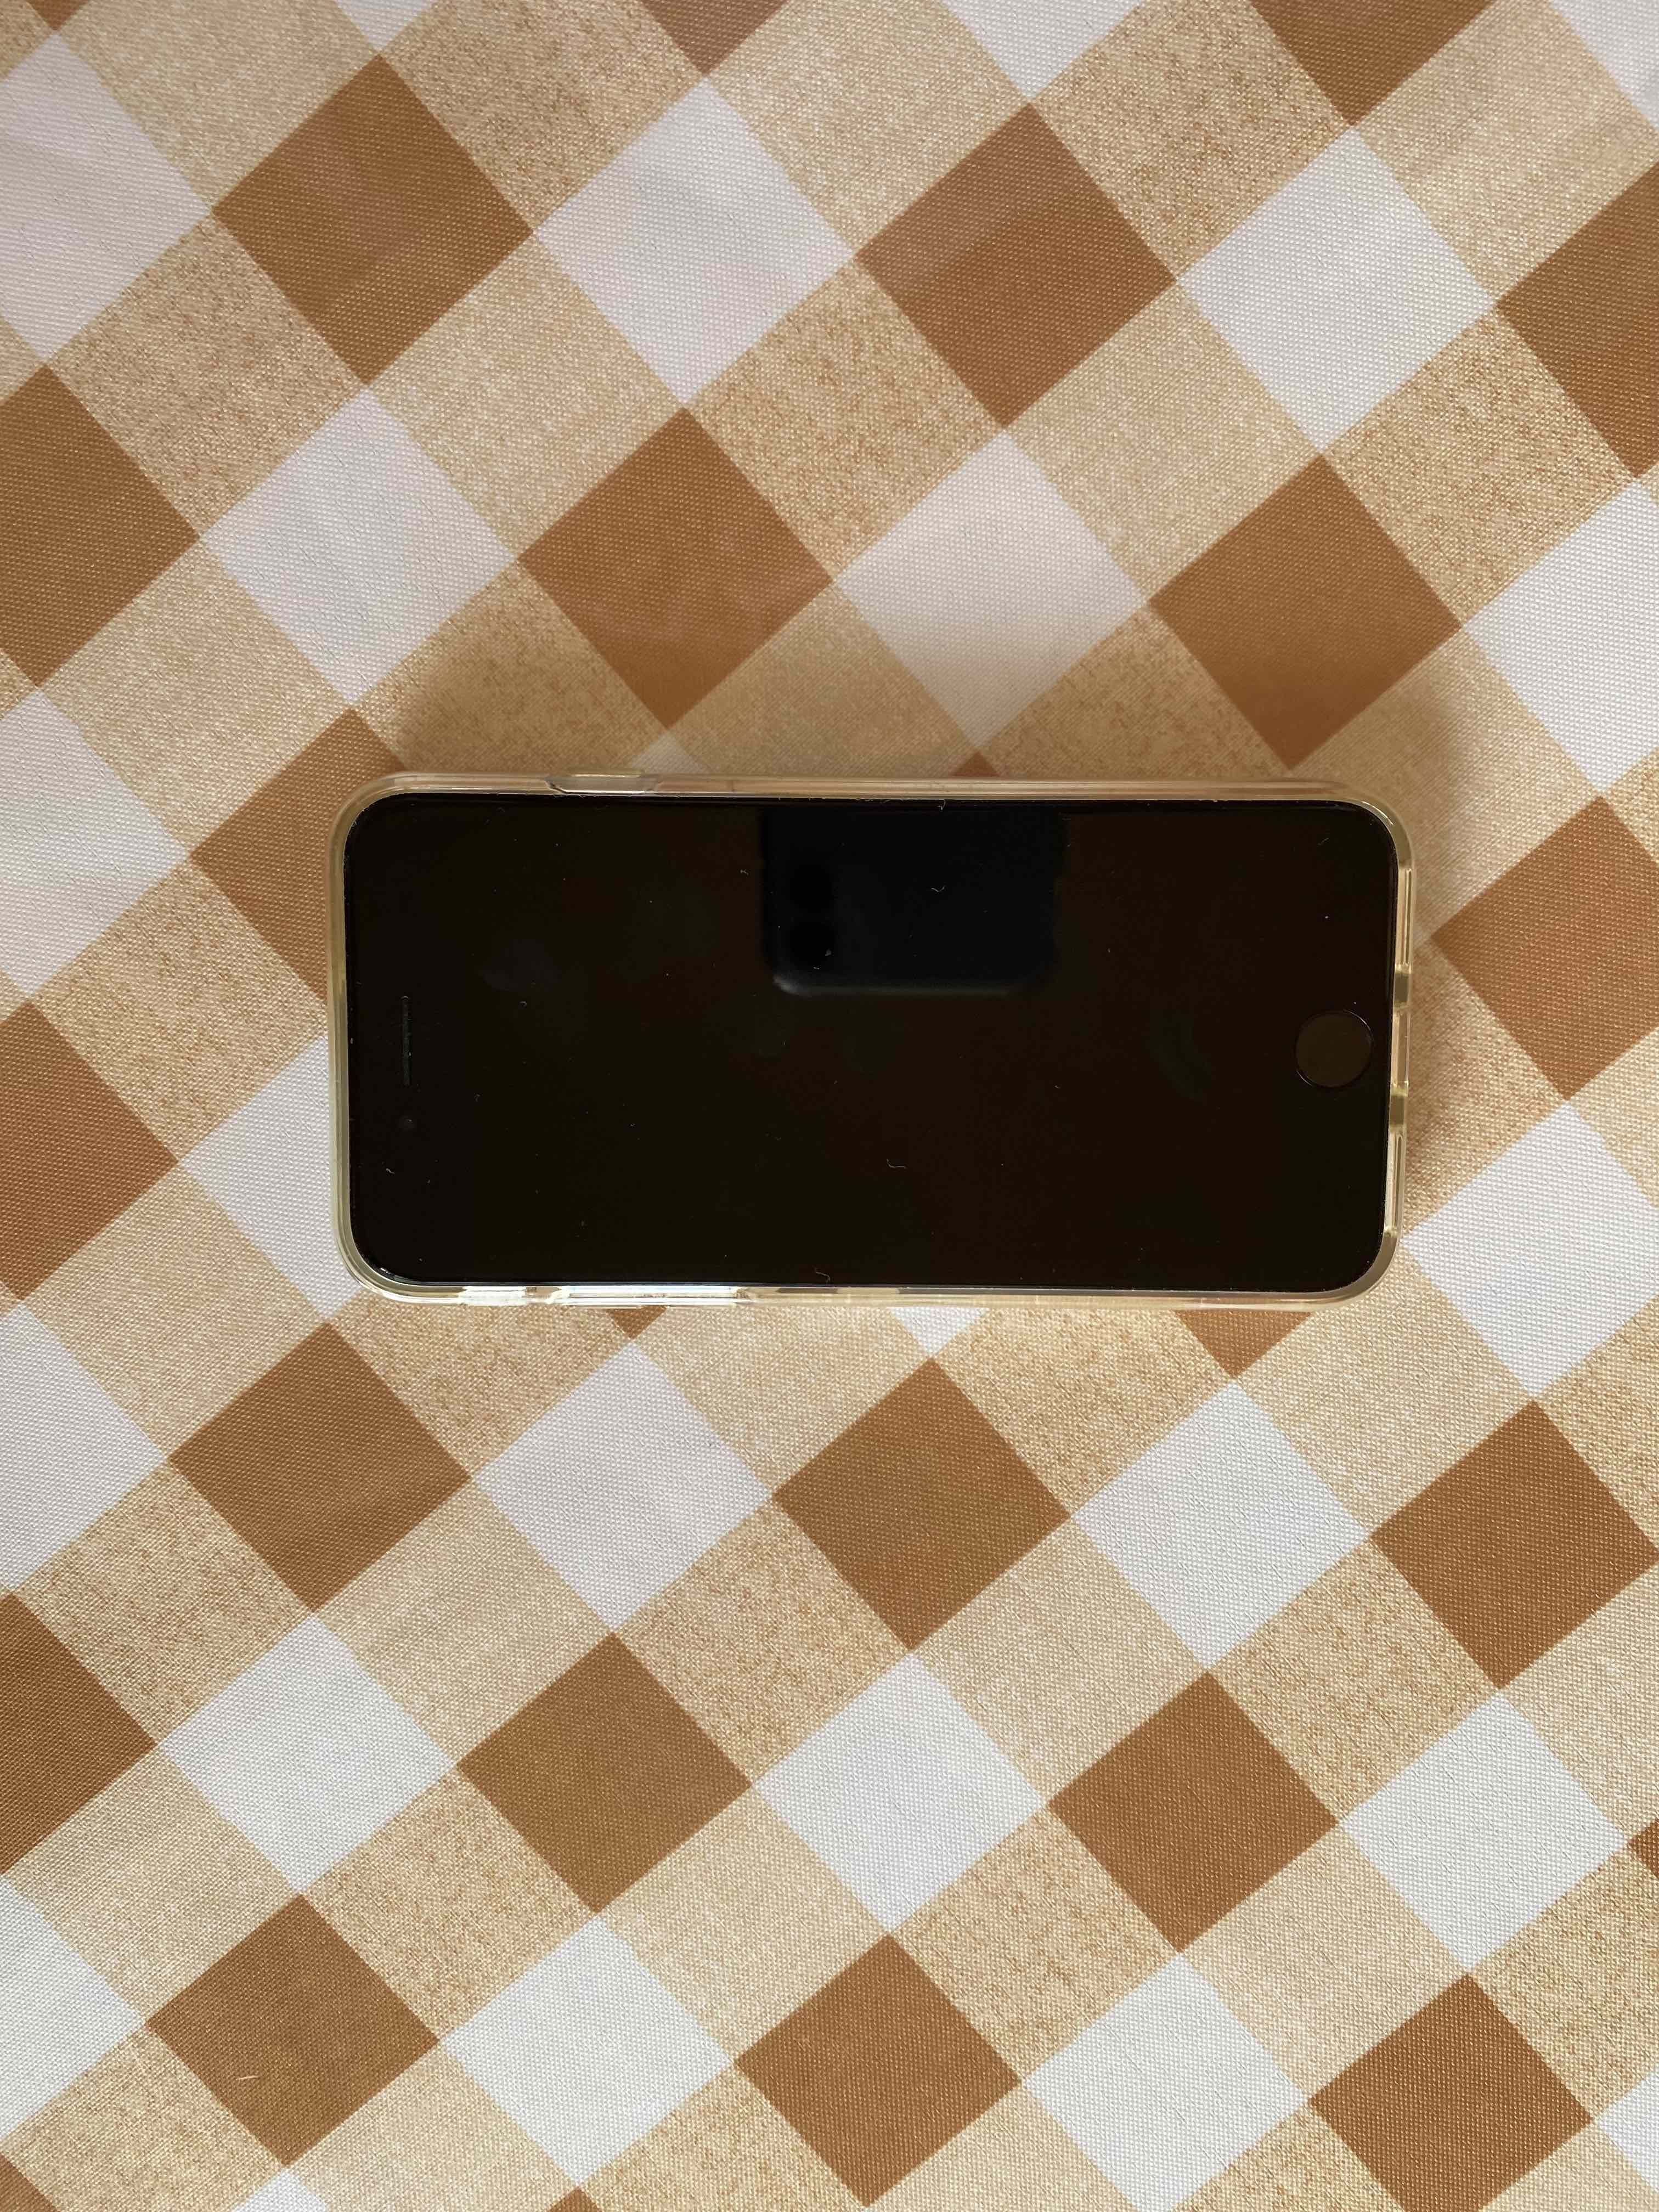Cell Phone: (333, 766, 1403, 1312)
